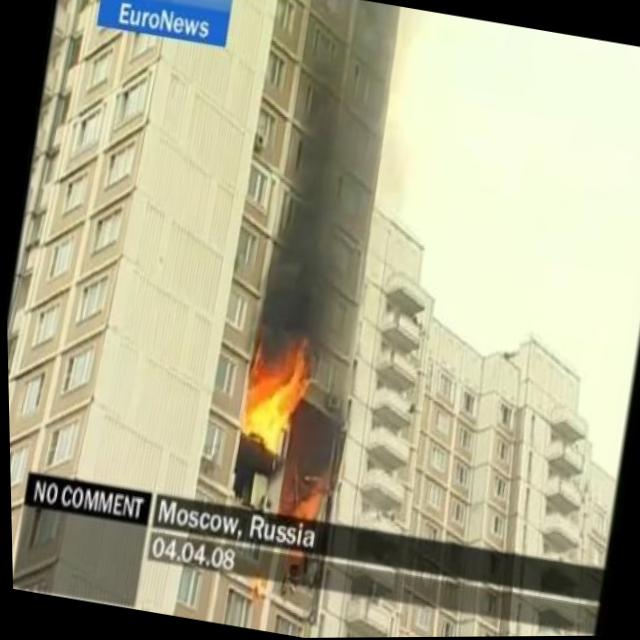fire: (234, 330, 319, 461), (287, 471, 328, 522)
